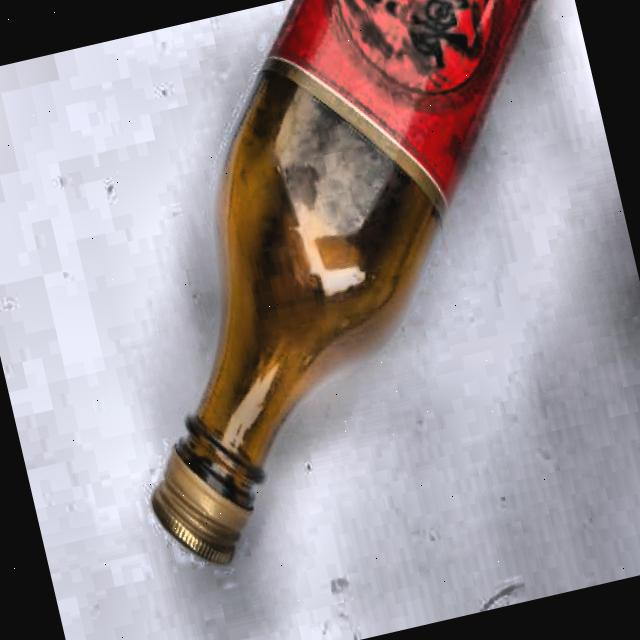glass: (49, 0, 640, 563)
